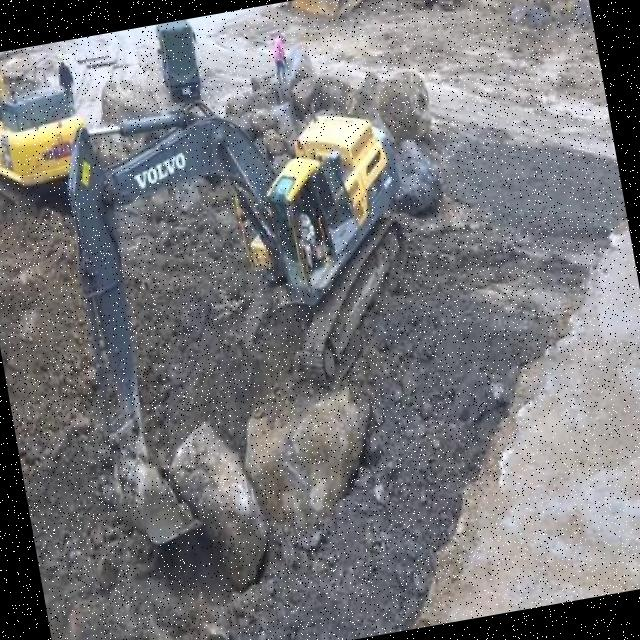Excavator: (48, 66, 454, 554), (0, 39, 109, 294)
